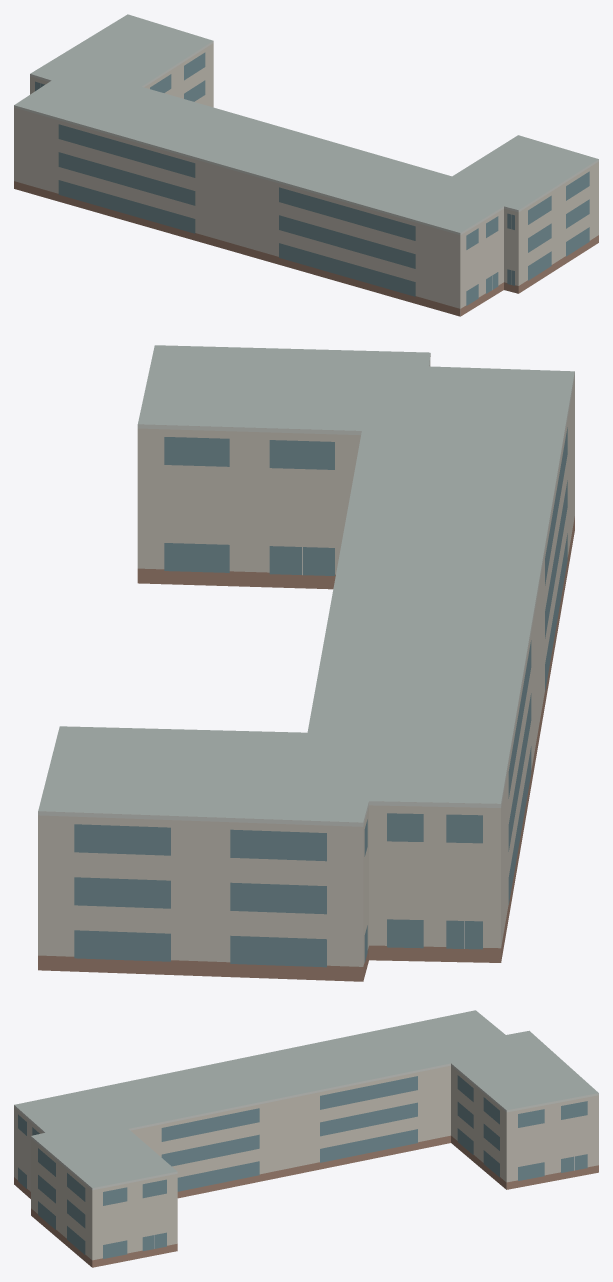
File: survey-upis-32744150.glb
3 renders of one model, top to bottom at view 1: azimuth 30°, elevation 25°; view 2: azimuth 150°, elevation 25°; view 3: azimuth 270°, elevation 25°, orthographic. The views are drawn at different scales.
Visible parts, largest first — view 1: survey-upis-32744150.tmp; view 2: survey-upis-32744150.tmp; view 3: survey-upis-32744150.tmp.
Part boxes in pixels (left/top/right/bottom): survey-upis-32744150.tmp: left=14, top=14, right=598, bottom=316; survey-upis-32744150.tmp: left=38, top=345, right=574, bottom=981; survey-upis-32744150.tmp: left=14, top=1010, right=598, bottom=1267.
Bounding box in the file's own units: 43.92 × 9.15 × 60.98.
